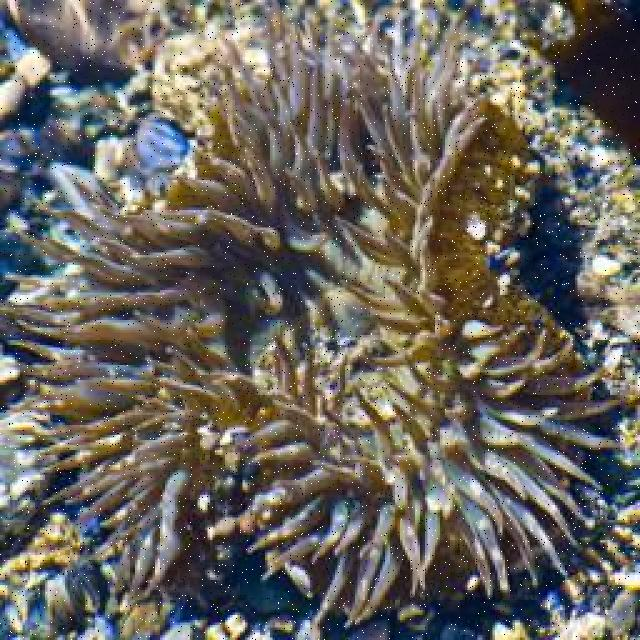reefs: (1, 1, 626, 629)
